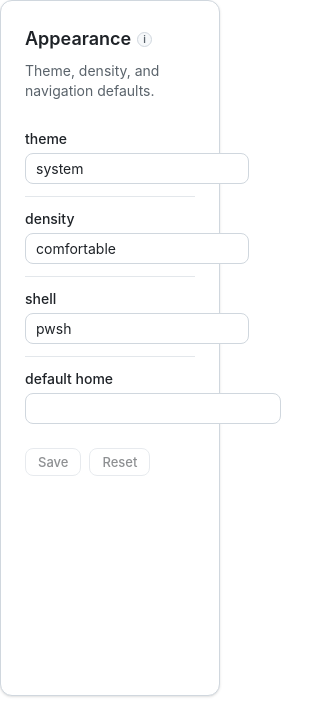
Test case: SectionAppearance › editing theme dirties the section + Save enables
Select "dark" in the dropdown with id "appearance". click: x=137, y=168
box: [25,153,249,184]
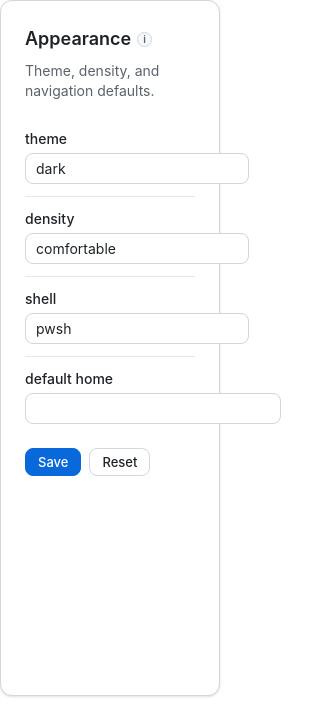
Expected: the button "Save" is enabled, [25,448,81,476]
